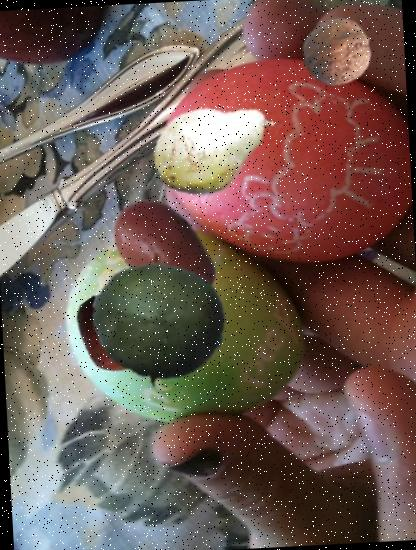Mango: (87, 252, 228, 393)
Nectarine: (70, 289, 155, 374)
Pear: (147, 80, 283, 216)
Potato: (102, 187, 228, 313)
Walnut: (302, 15, 374, 88)
